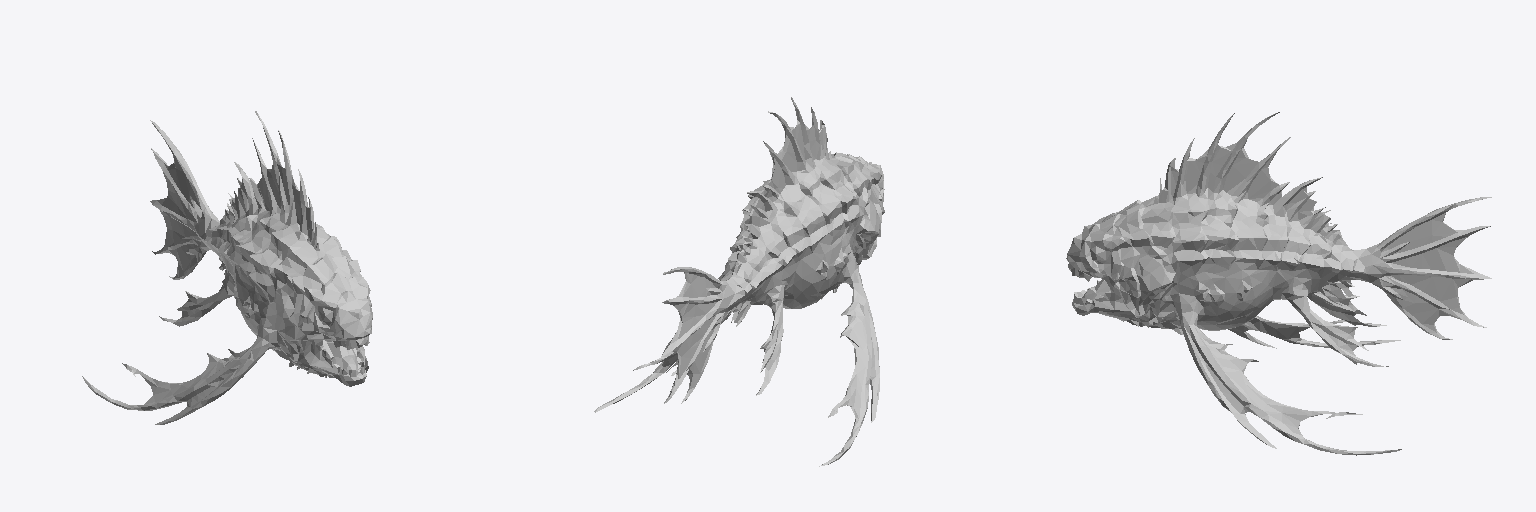
Rendered from abyssal_lurker.obj.
The picture shows the model from 3 angles: view 1: azimuth 30°, elevation 25°; view 2: azimuth 150°, elevation 25°; view 3: azimuth 270°, elevation 25°; orthographic projection.
Parts seen in each view (by area): view 1: Meshy_AI_Abyssal_Lurker_[number redacted]_texture; view 2: Meshy_AI_Abyssal_Lurker_[number redacted]_texture; view 3: Meshy_AI_Abyssal_Lurker_[number redacted]_texture.
Boxes of the visible parts, <box> form: Meshy_AI_Abyssal_Lurker_[number redacted]_texture: <box>82,111,372,424</box>; Meshy_AI_Abyssal_Lurker_[number redacted]_texture: <box>594,97,884,466</box>; Meshy_AI_Abyssal_Lurker_[number redacted]_texture: <box>1066,112,1491,455</box>.
Bounding box in the file's own units: 1.2 × 1.44 × 1.92.